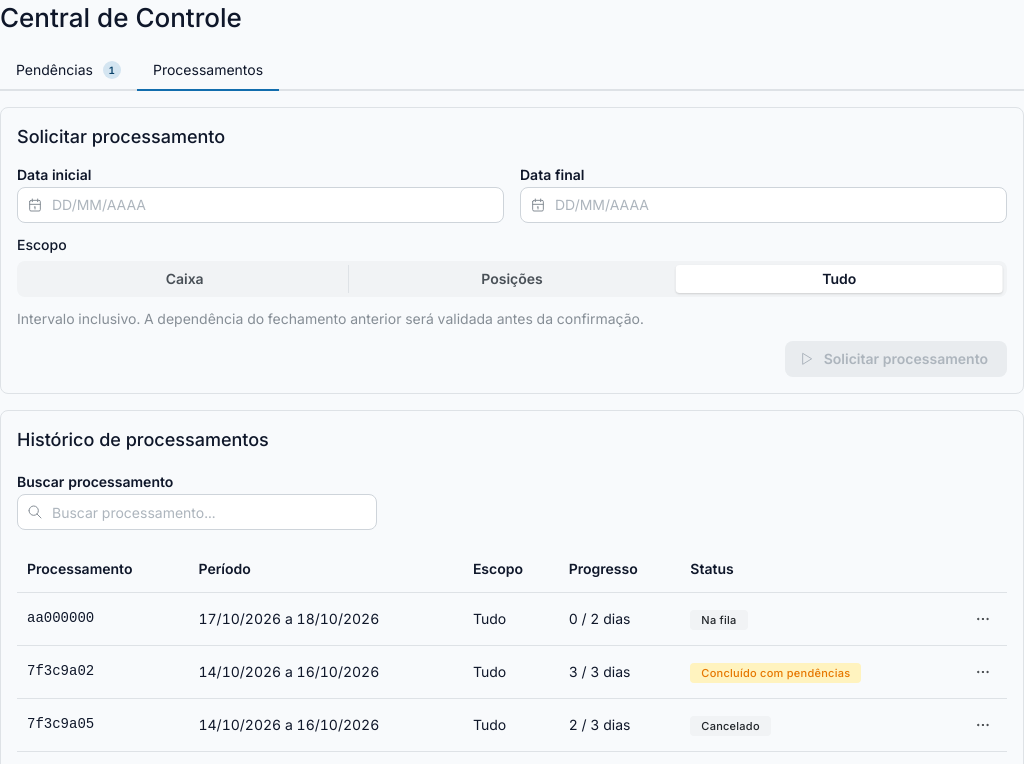
Test: Processamentos: cancel (§10.2) › §10.2 goes back without cancelling
Click the button named "Ações do processamento" at [983, 619], box [969,605,997,633]
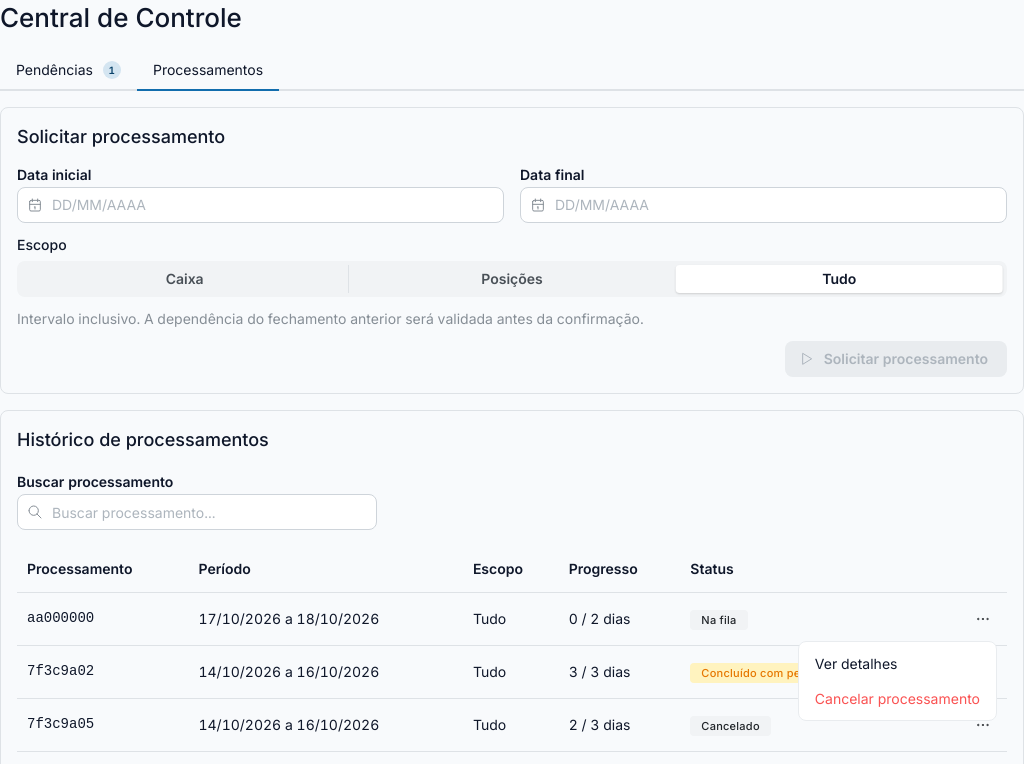
Click the menu item "Cancelar processamento" at [897, 698], box [803,681,992,716]
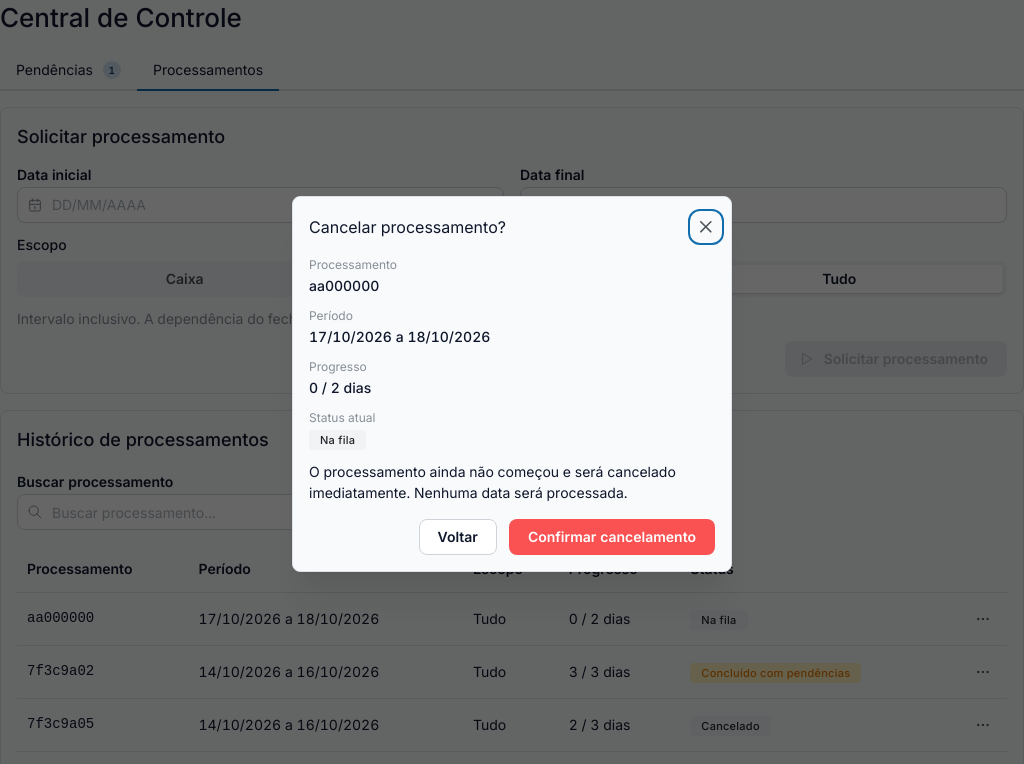
Click the button "Voltar" at [458, 537], box [418,519,497,555]
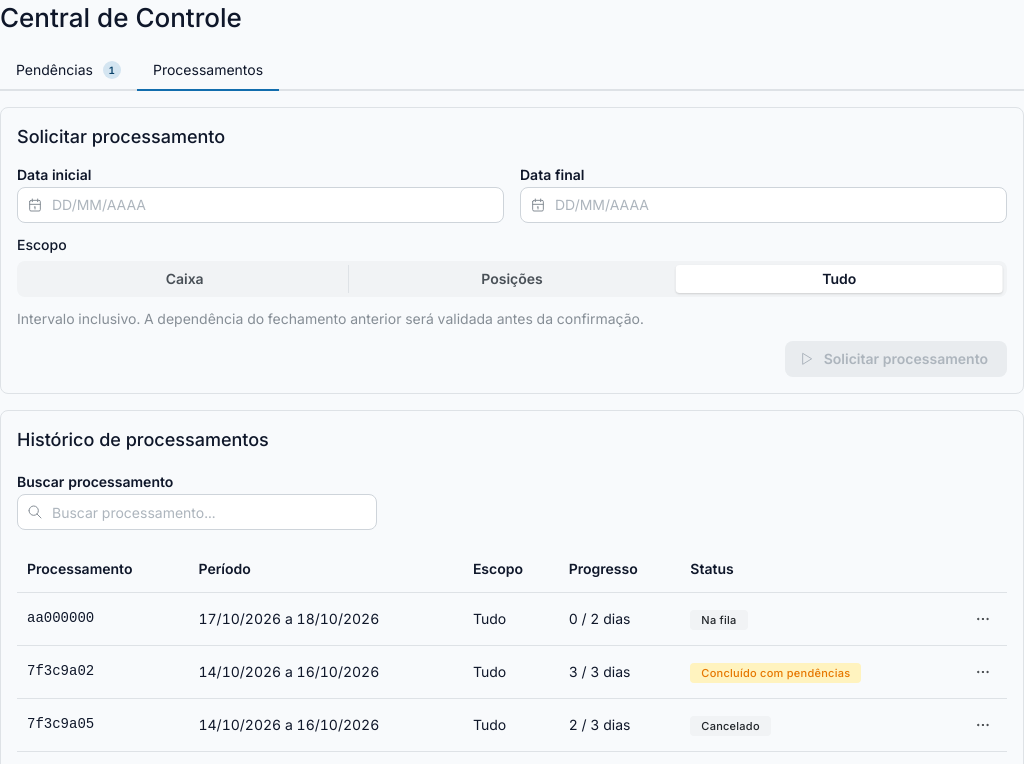
expect the heading "Cancelar processamento?" is gone: met
